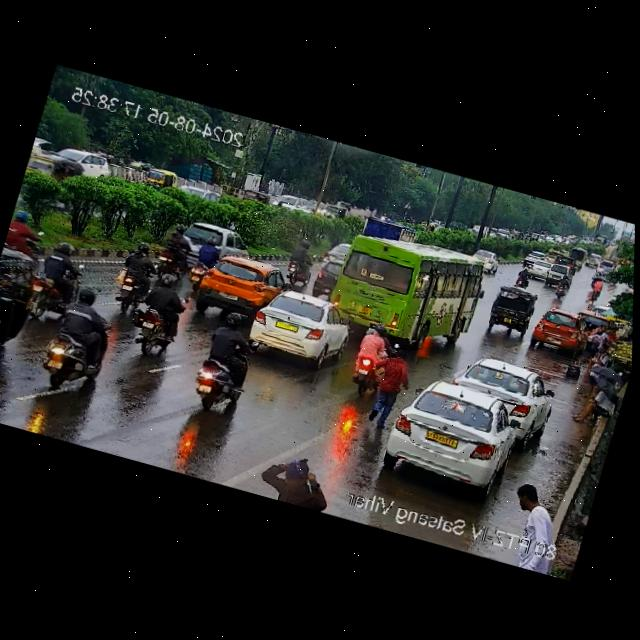bus: (311, 220, 486, 359)
car: (377, 372, 540, 502), (239, 281, 351, 369), (448, 351, 555, 431), (196, 248, 292, 315), (359, 346, 411, 431), (169, 215, 256, 263), (0, 251, 45, 343), (29, 137, 109, 185), (482, 283, 536, 338), (530, 308, 591, 355), (31, 148, 82, 184), (524, 256, 577, 287), (308, 256, 344, 300), (578, 298, 614, 333), (316, 232, 350, 266), (140, 166, 179, 194), (231, 186, 272, 210), (273, 191, 304, 214), (470, 248, 502, 270), (180, 183, 218, 201), (549, 254, 580, 271), (522, 249, 545, 270), (579, 249, 603, 269), (324, 202, 346, 221), (566, 246, 587, 262), (600, 258, 614, 275)
motorcycle: (35, 286, 112, 399), (121, 255, 195, 356), (193, 311, 265, 413), (107, 240, 167, 317), (29, 239, 91, 313), (345, 321, 392, 397), (282, 238, 320, 289), (3, 212, 46, 257), (0, 312, 5, 417), (553, 272, 571, 298), (588, 277, 604, 304), (515, 264, 532, 288), (592, 263, 604, 277)
person: (255, 447, 333, 513), (499, 483, 555, 545), (568, 378, 619, 427), (581, 323, 616, 366)
truck: (358, 211, 416, 246), (542, 247, 558, 265)
